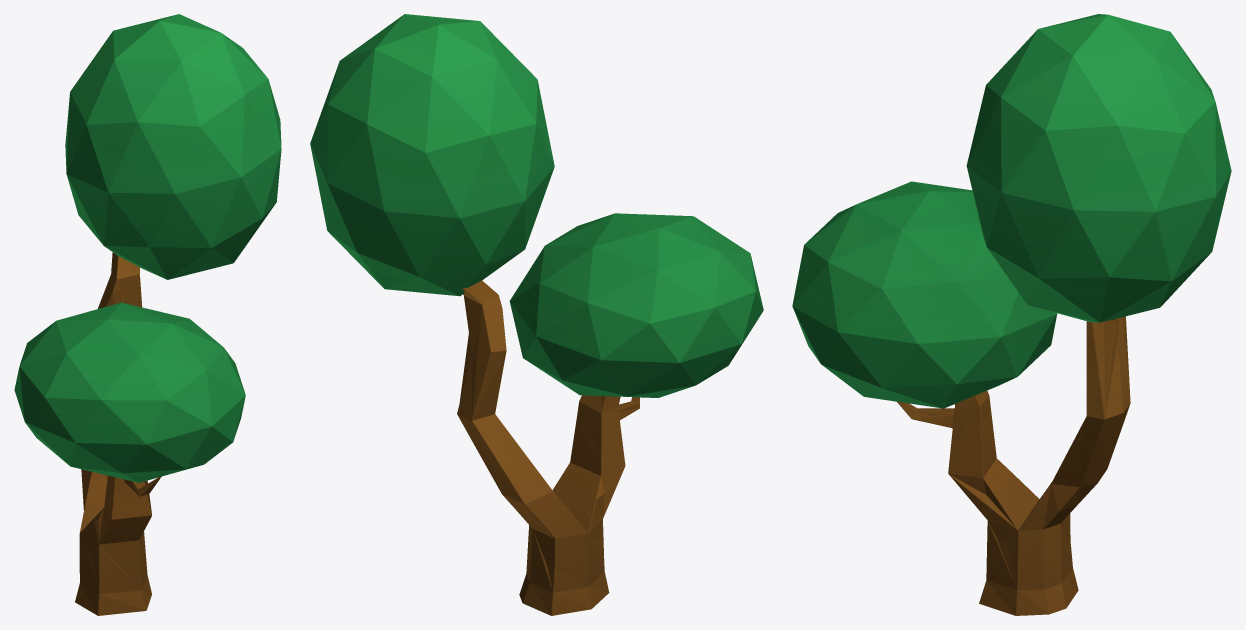
Rendered from tree_twin.glb.
3 renders of one model, left to right at view 1: azimuth 30°, elevation 25°; view 2: azimuth 150°, elevation 25°; view 3: azimuth 270°, elevation 25°, orthographic. The views are drawn at different scales.
Visible parts, largest first — view 1: tree_twin; view 2: tree_twin; view 3: tree_twin.
Boxes of the visible parts, bbox=[...] form: tree_twin: bbox=[14, 14, 281, 615]; tree_twin: bbox=[310, 14, 763, 615]; tree_twin: bbox=[792, 14, 1231, 615].
Size of the model in its own units: 2.03 by 3.3 by 2.09.
Materials: 1 (1 with a texture image).
